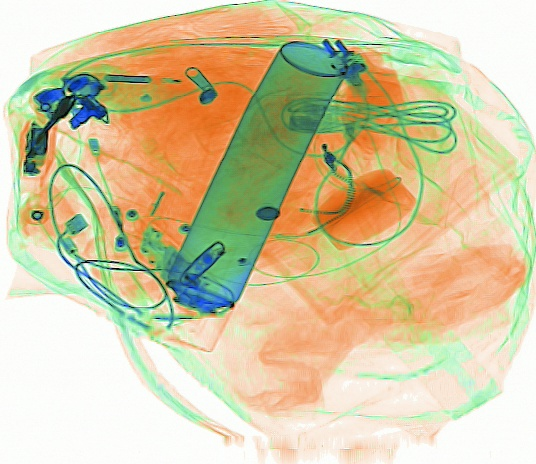pressure: (146, 39, 350, 353)
